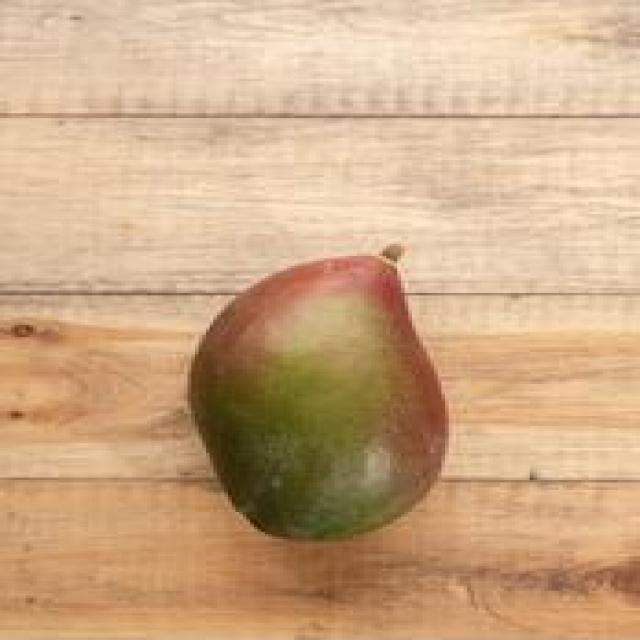Mango: (170, 240, 460, 542)
